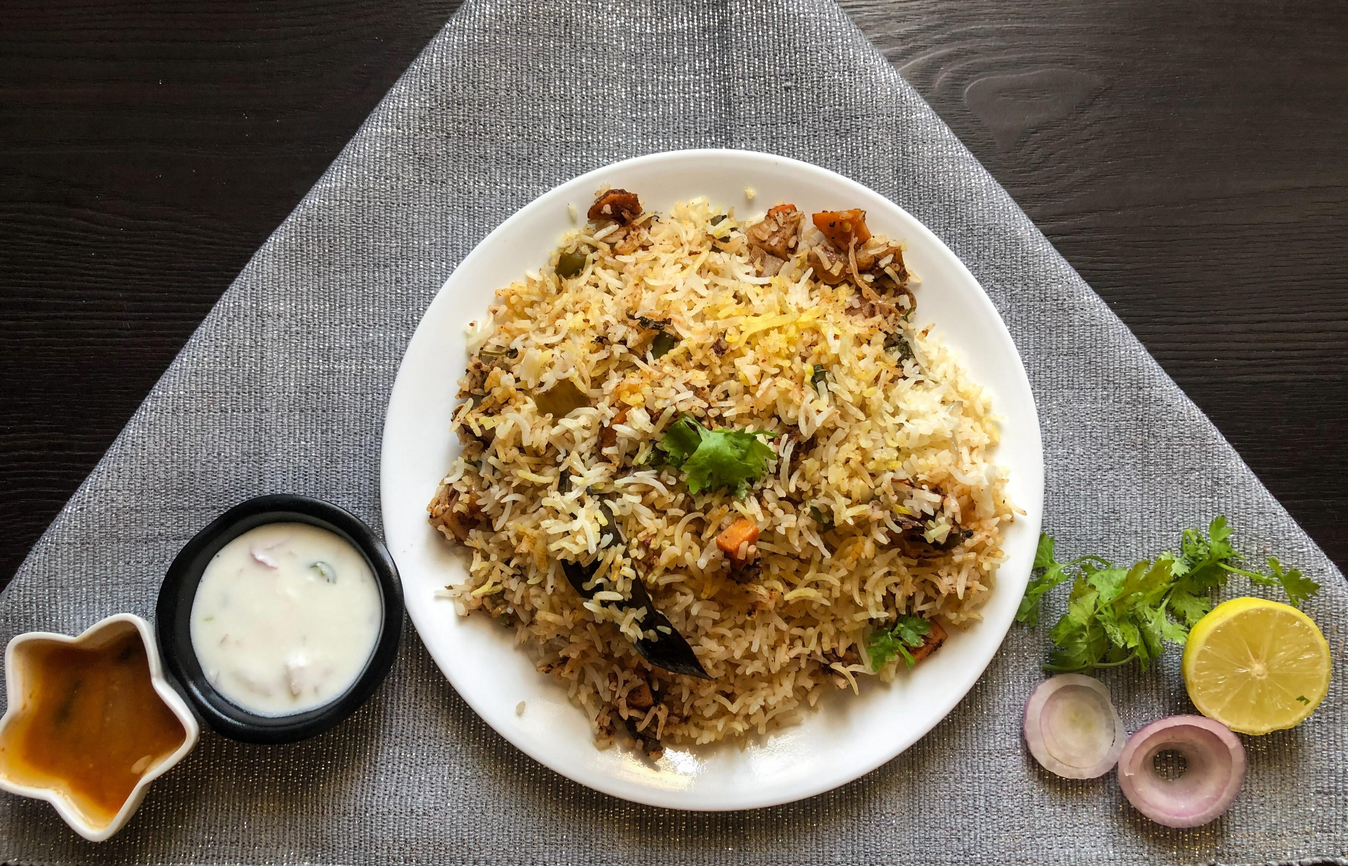Biryani: (420, 180, 1029, 795)
